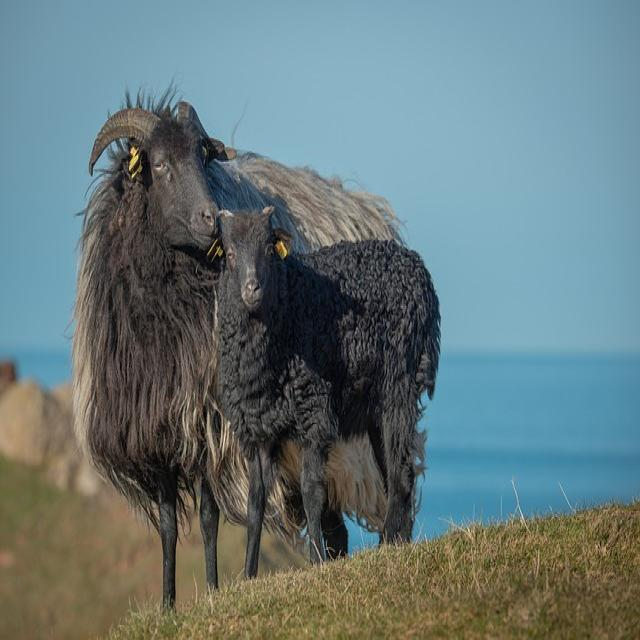goat: (71, 97, 436, 612), (219, 198, 439, 564)
